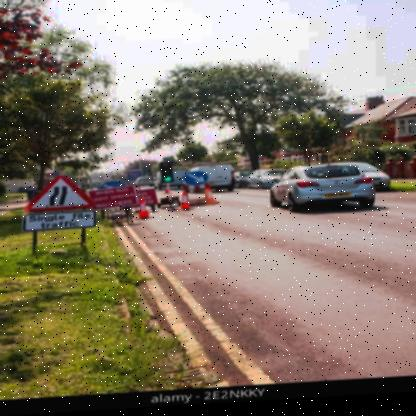Keep right: (182, 172, 211, 190)
